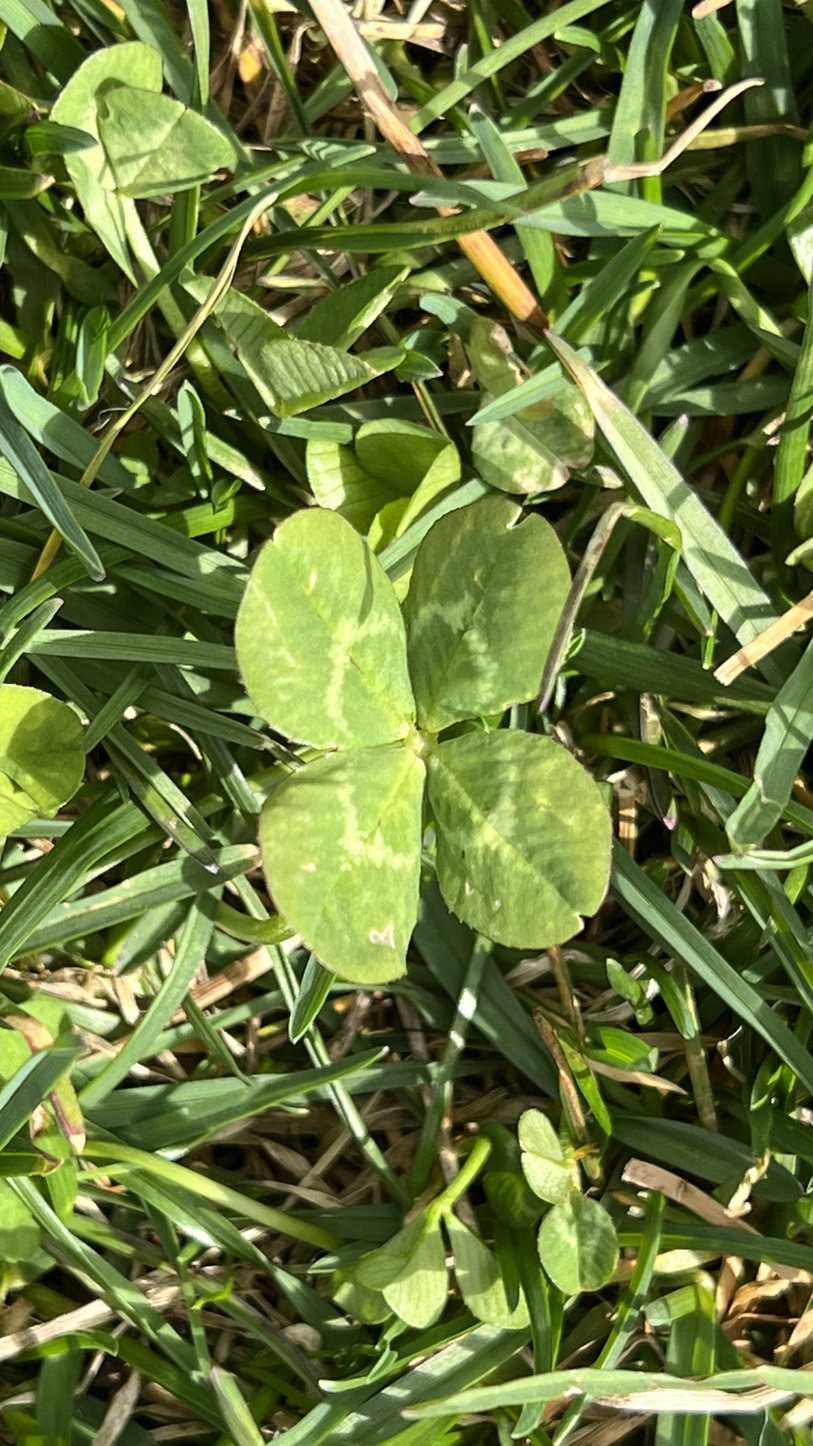4-Leaf-Clovers: (243, 497, 608, 971)
